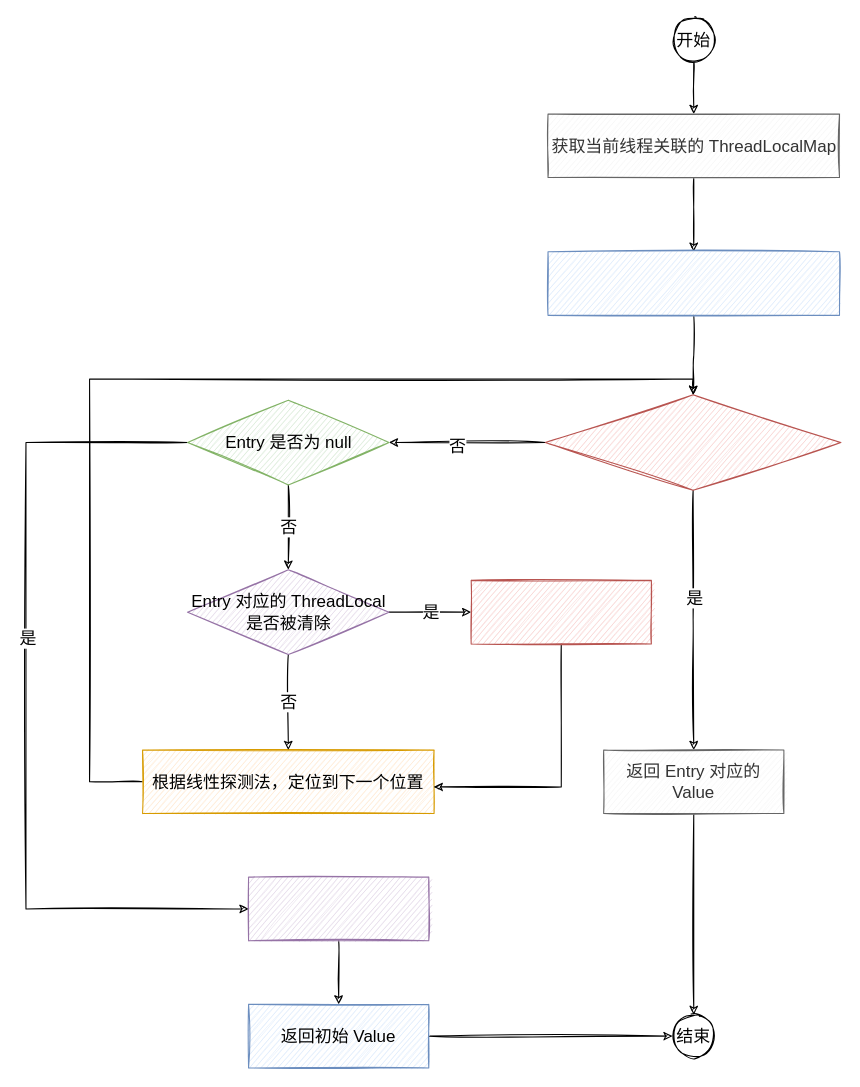
Image size: 860x1087. Some labels were removed from this diagram. Here are the shapes that lost their labels. From the top down, the centre of each, then its label:
At point (693, 283): "根据本次调用的 ThreadLocal，定位到 table 中的位置".
At point (692, 442): "Entry 对应的 ThreadLocal 是否与当前的 ThreadLocal 一致".
At point (560, 611): "expungeStaleEntry 清理当前位置".
At point (338, 908): "获取初始 Value 并绑定到当前 ThreadLocal".
